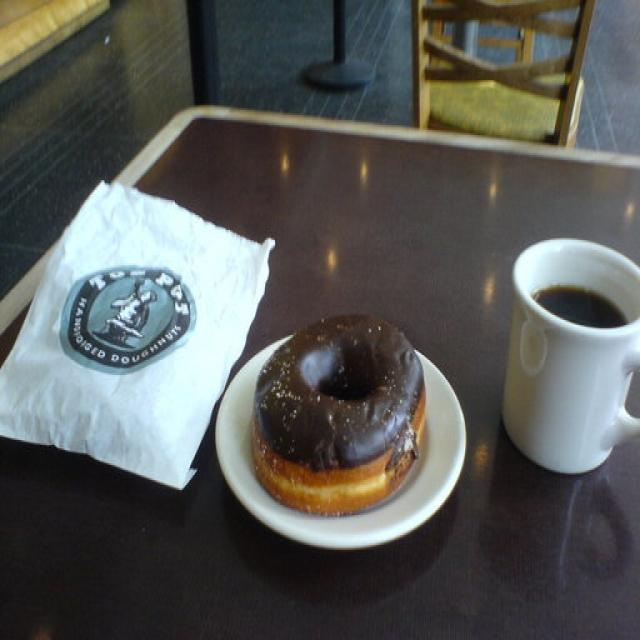Donuts: (254, 307, 436, 522)
